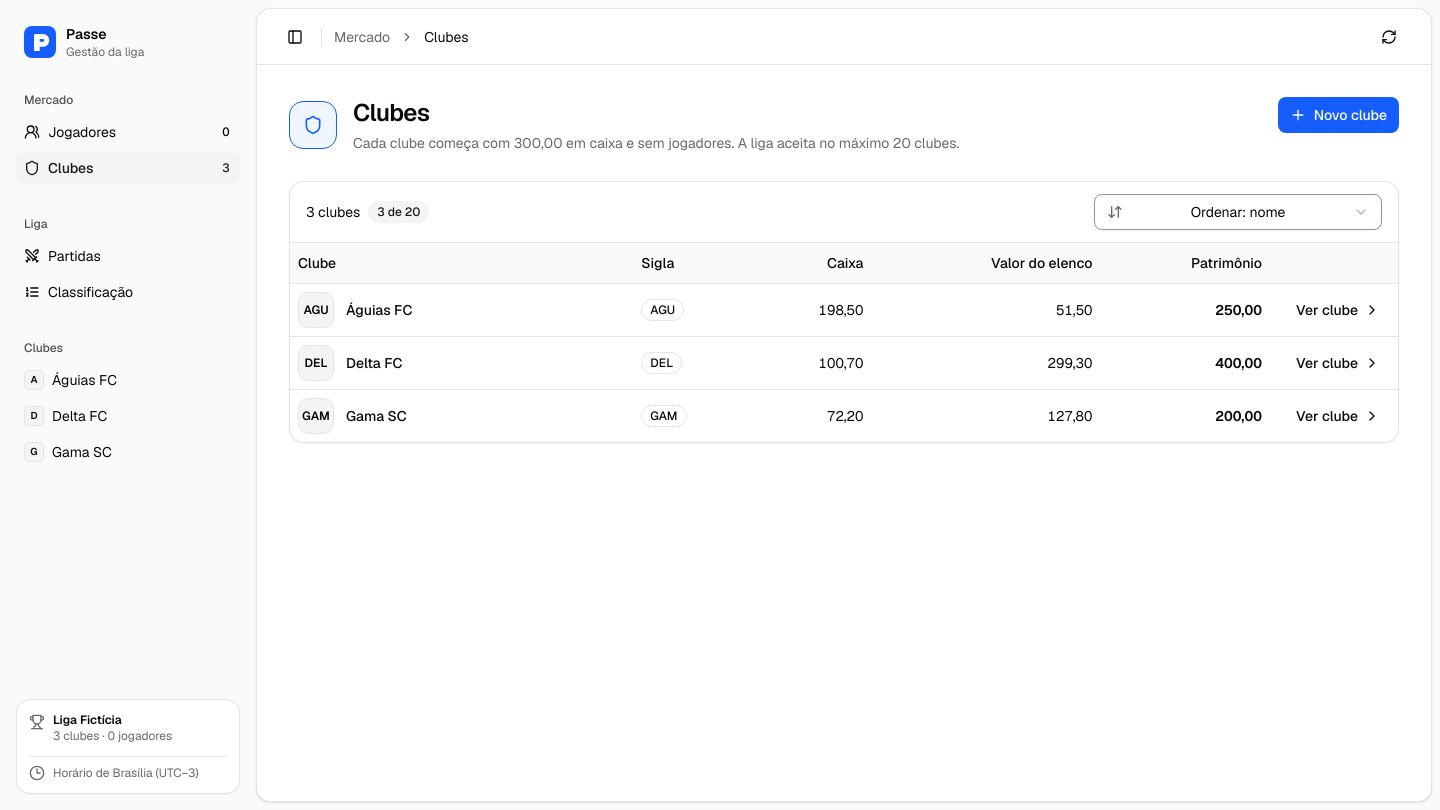
Test case: F05 club creation › shows the exact API message when club creation is rejected
Check: the table named "Clubes" is shown, box x1=290 y1=243 x2=1398 y2=442
Click the button "Novo clube" at point(1338, 115), box x1=1278 y1=97 x2=1399 y2=133
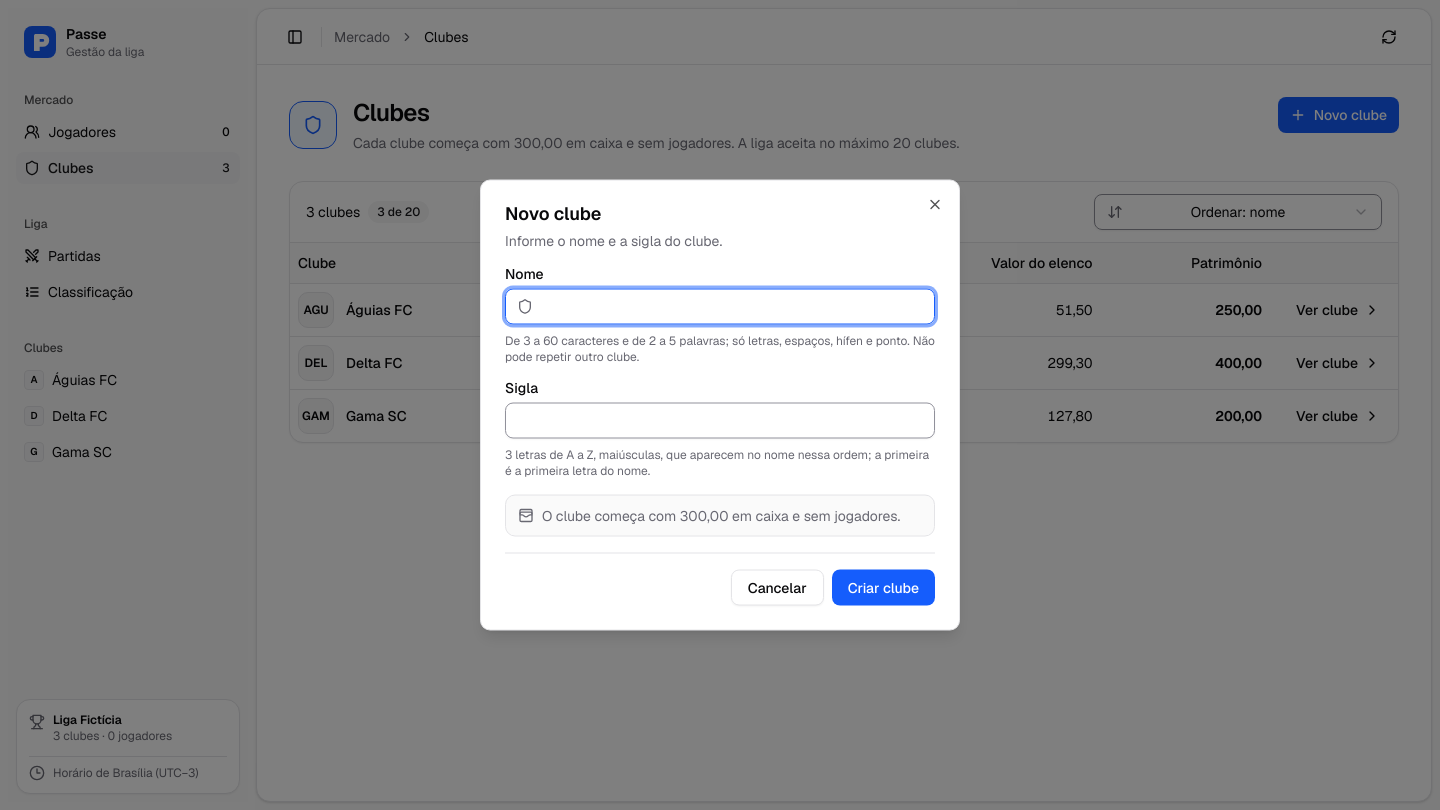
Type "Águias FC" into the field labelled "Nome" at point(720, 306), box x1=505 y1=288 x2=935 y2=324
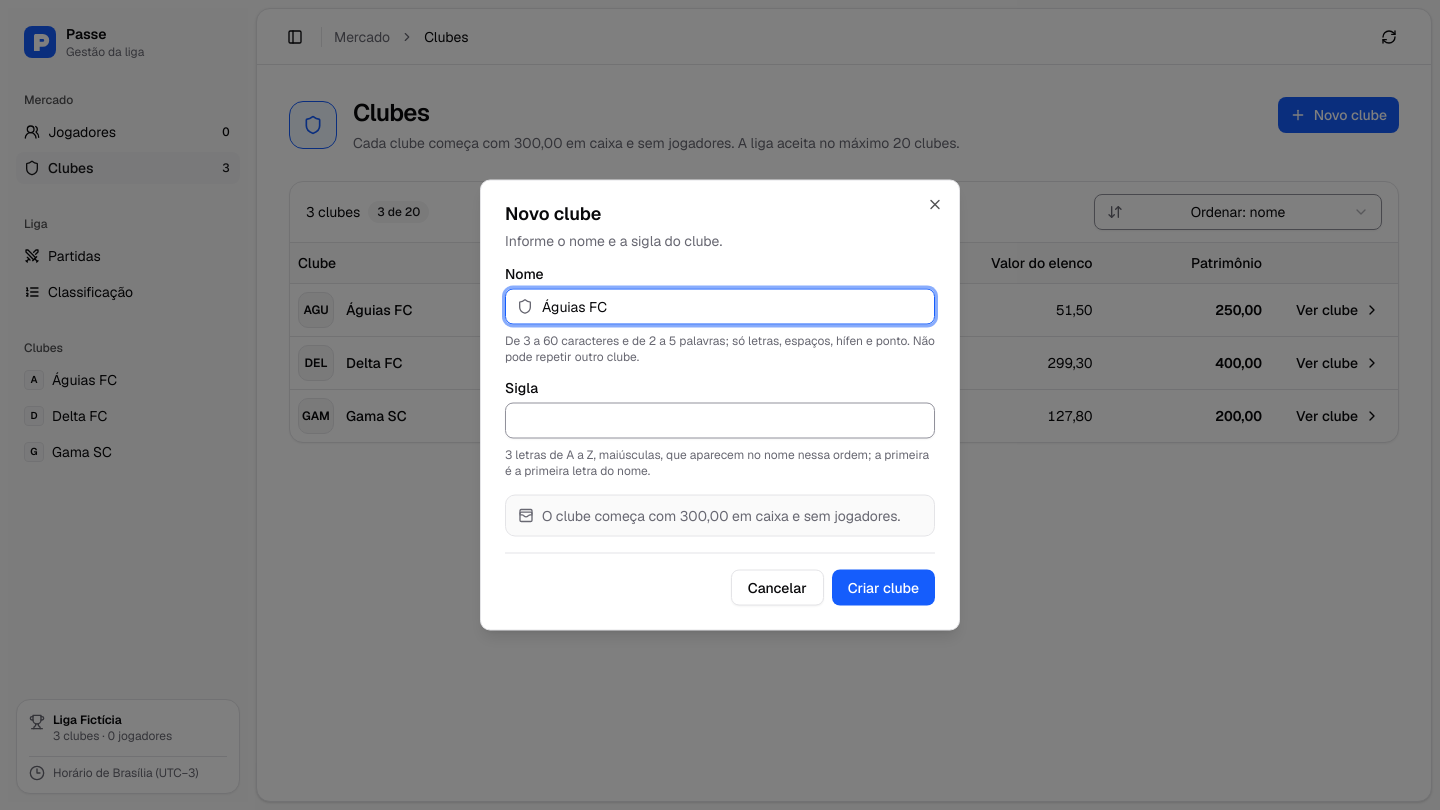
Type "AGU" into the field labelled "Sigla" at point(720, 420), box x1=505 y1=402 x2=935 y2=438
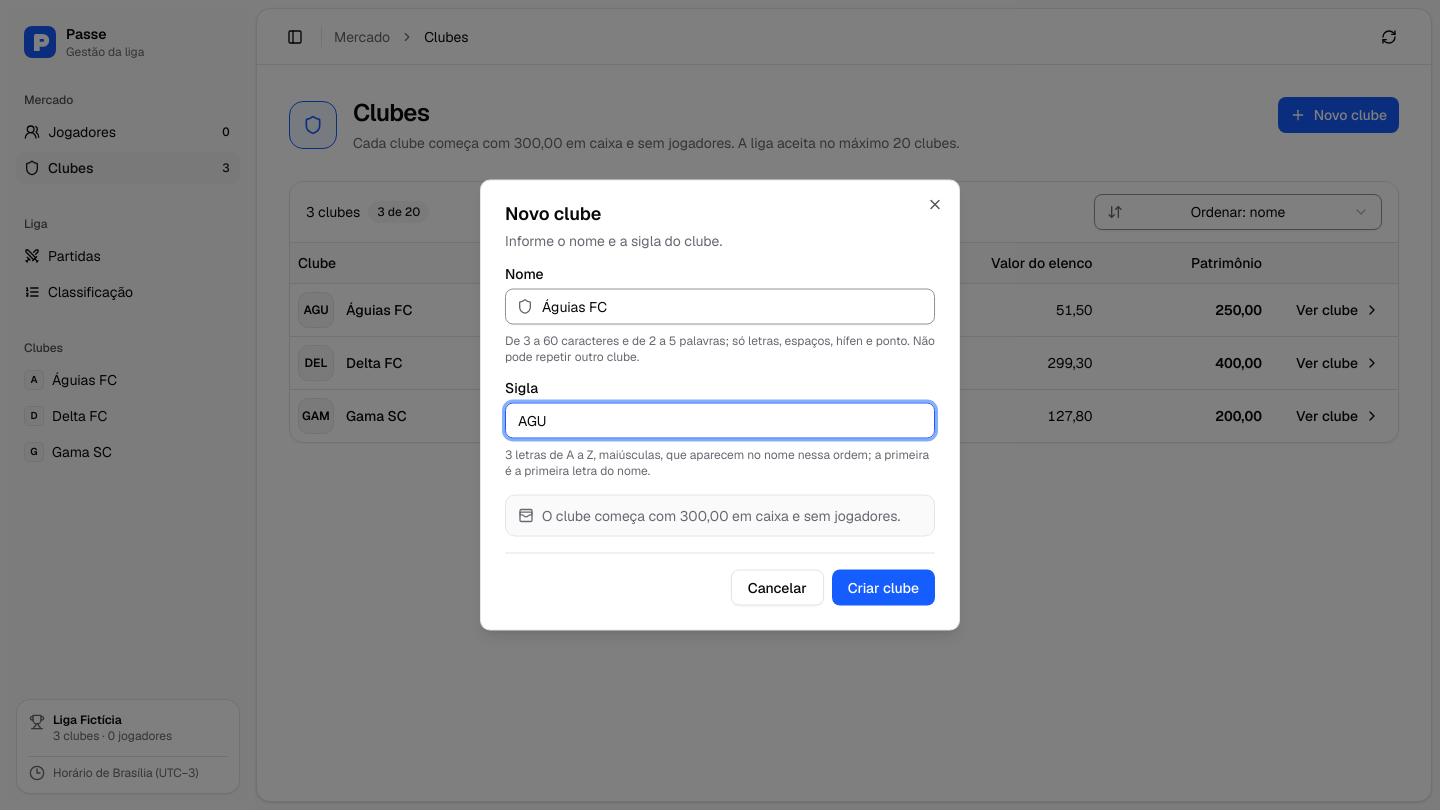
Click the button "Criar clube" at point(883, 588), box x1=832 y1=570 x2=935 y2=606
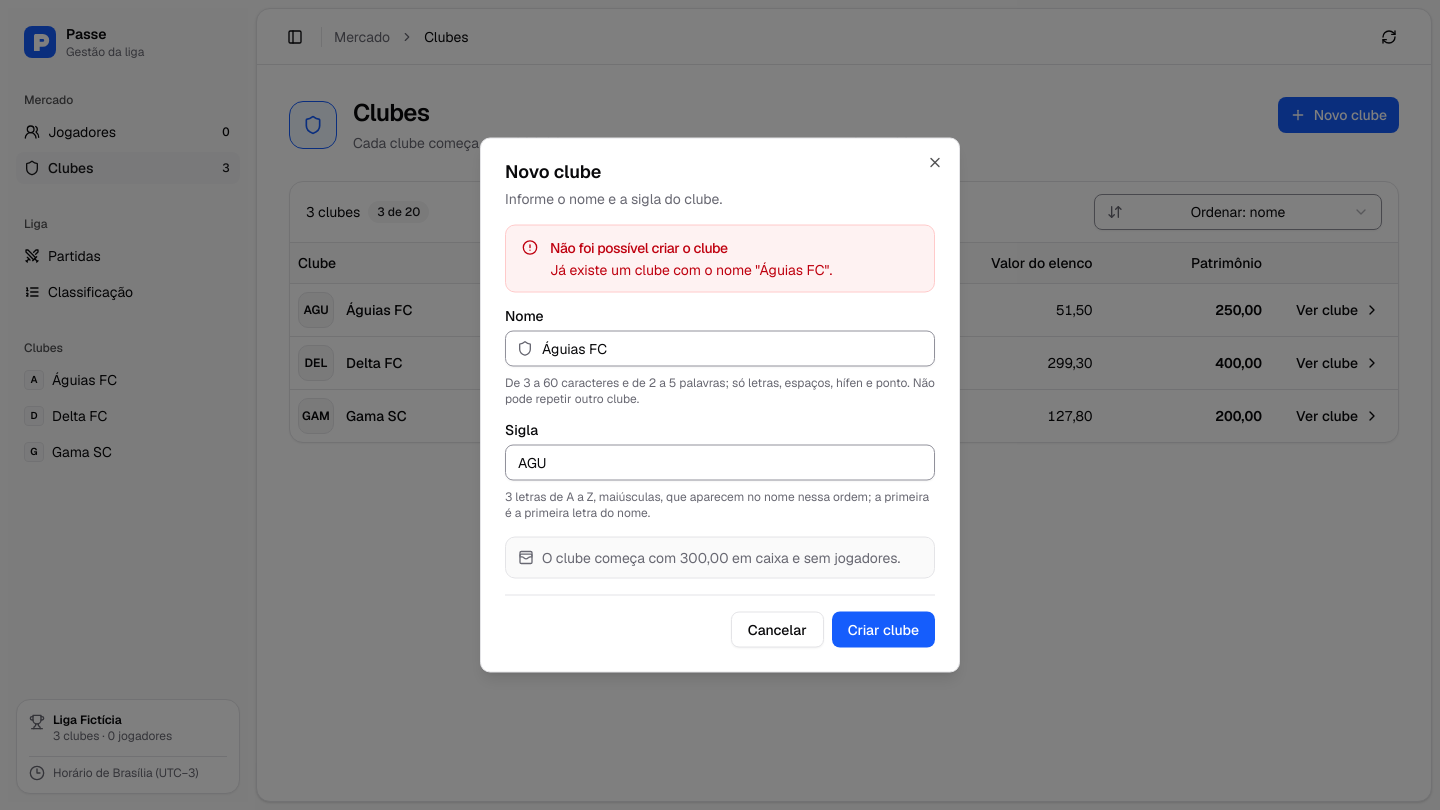
Check: the dialog "Novo clube" is shown, box x1=480 y1=138 x2=960 y2=672
Check: the text "Não foi possível criar o clube" is shown, box x1=550 y1=238 x2=728 y2=256
Check: the text "Já existe um clube com o nome \"Águias FC\"." is shown, box x1=550 y1=260 x2=832 y2=278
